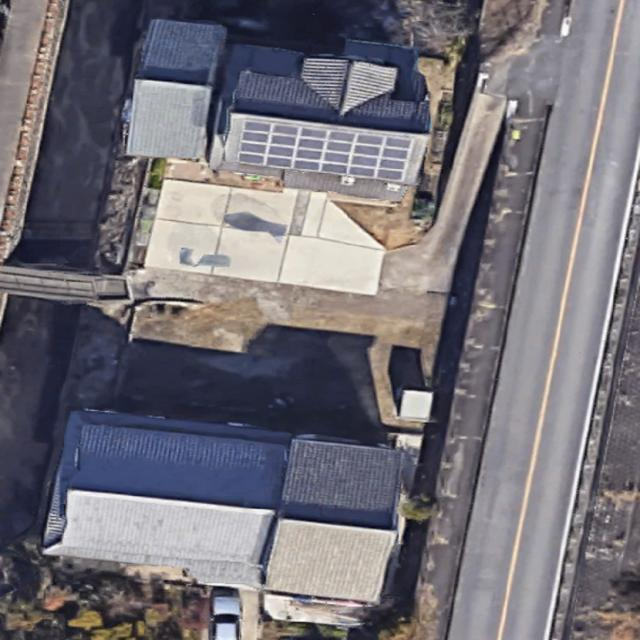Batiment: (44, 411, 400, 586), (223, 41, 428, 194), (145, 180, 384, 294), (126, 19, 226, 158), (265, 519, 396, 603)
